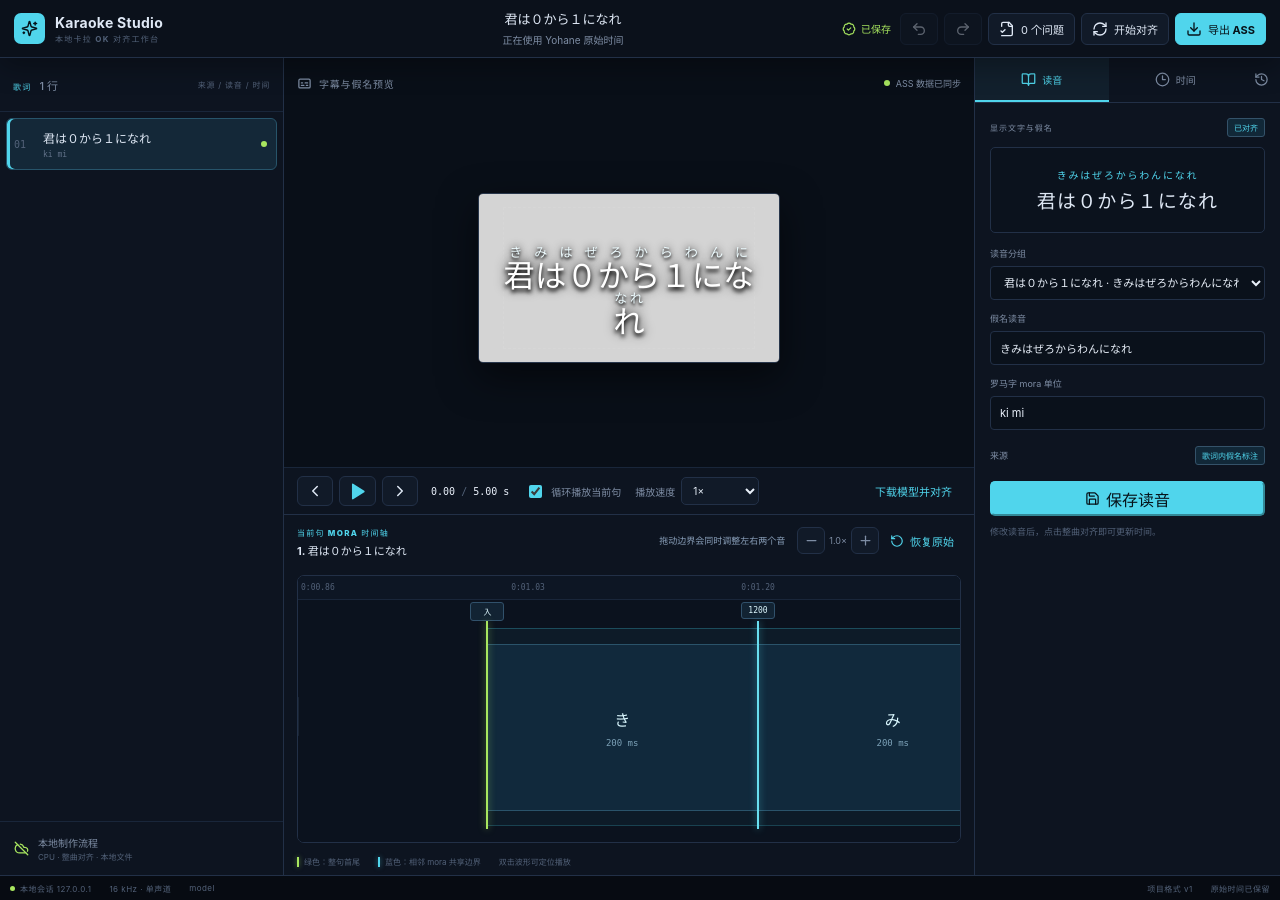
Test case: Karaoke Studio › opens the structural report
This screenshot has width=1280, height=900.
Expected: the text "正在使用 Yohane 原始时间" is shown, [502, 34, 623, 46]
Click the button "0 个问题" at x=1031, y=28, box [988, 12, 1075, 44]
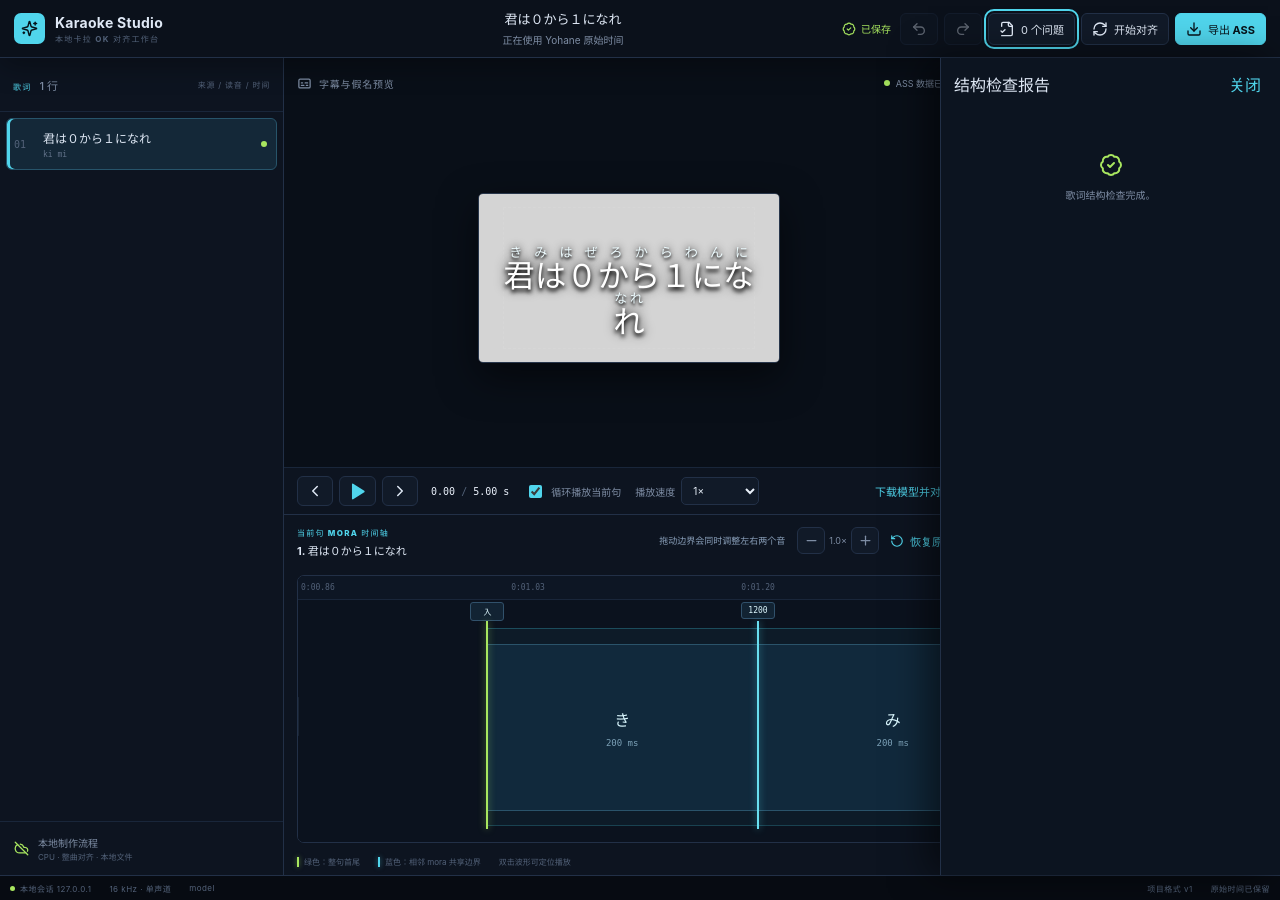
Now the text "歌词结构检查完成。" is shown, box [1066, 153, 1156, 201]
